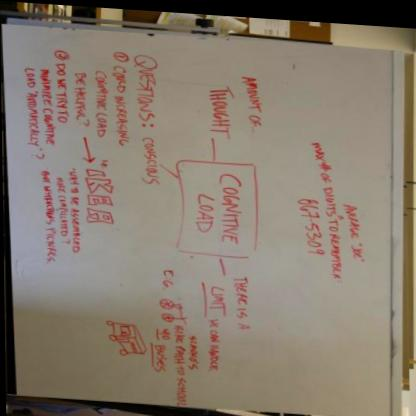Handwritten text: (216, 168, 246, 245), (35, 161, 57, 262), (135, 48, 161, 122), (85, 166, 117, 223), (112, 61, 133, 147), (207, 75, 237, 135), (135, 130, 162, 192), (233, 270, 258, 333), (240, 66, 264, 125), (68, 164, 84, 251), (42, 62, 57, 151), (173, 318, 188, 405), (25, 60, 40, 147), (94, 65, 110, 144), (194, 185, 216, 234), (54, 55, 69, 123), (205, 311, 222, 370), (73, 66, 90, 119), (347, 193, 366, 240), (56, 167, 69, 235), (151, 334, 170, 373), (206, 281, 228, 312), (188, 327, 202, 369)
Whiteboard: (0, 21, 402, 416)
